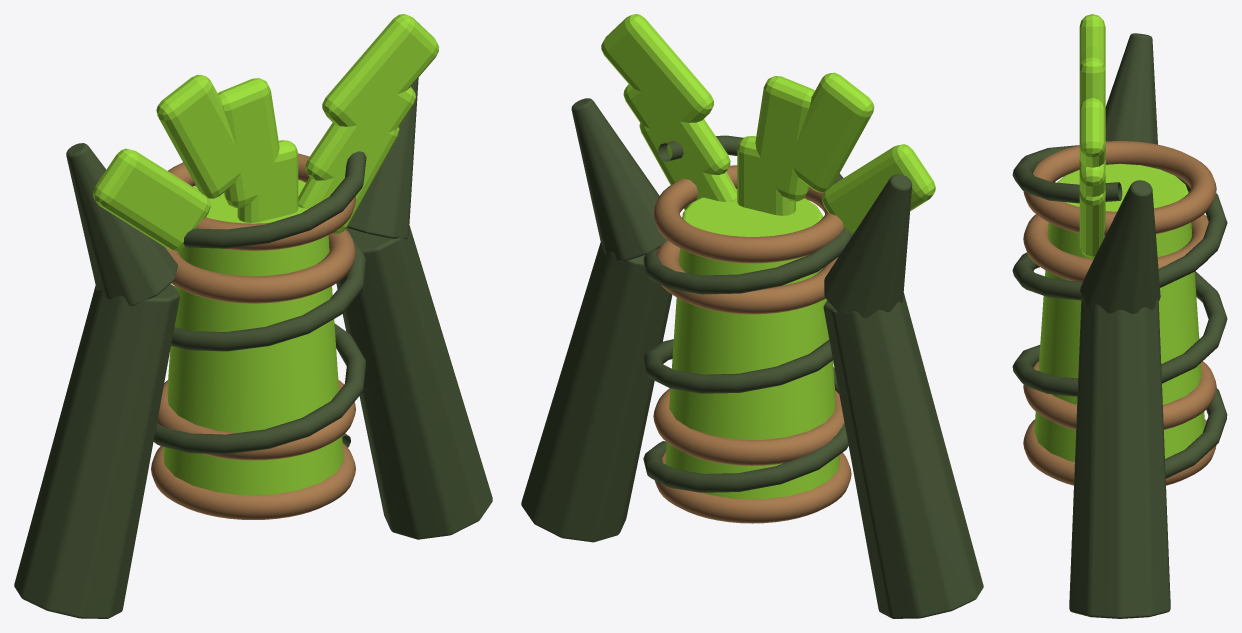
Rendered from chamber_landmark.glb.
The picture shows the model from 3 angles, left to right: view 1: azimuth 30°, elevation 25°; view 2: azimuth 150°, elevation 25°; view 3: azimuth 270°, elevation 25°; orthographic projection. The views are drawn at different scales.
Parts seen in each view (by area): view 1: chamber_landmark; view 2: chamber_landmark; view 3: chamber_landmark.
Part boxes in pixels (<box>): chamber_landmark: <box>14,14,492,618</box>; chamber_landmark: <box>521,14,983,618</box>; chamber_landmark: <box>1012,14,1227,618</box>.
Size of the model in its own units: 3.5 by 3.81 by 1.49.
